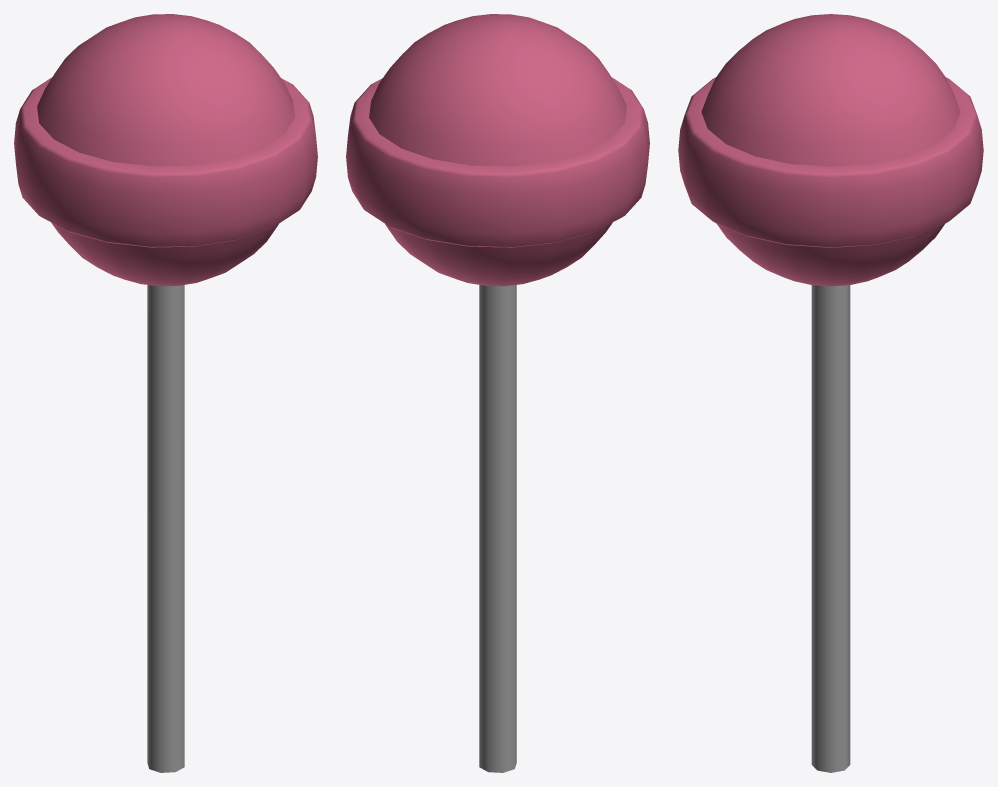
The model's file is lolipop.fbx.
3 renders of one model, left to right at view 1: azimuth 30°, elevation 25°; view 2: azimuth 150°, elevation 25°; view 3: azimuth 270°, elevation 25°, orthographic.
Parts seen in each view (by area): view 1: Lolipop; view 2: Lolipop; view 3: Lolipop.
Part boxes in pixels (bbox=[...]): Lolipop: bbox=[14, 14, 317, 772]; Lolipop: bbox=[346, 14, 649, 772]; Lolipop: bbox=[678, 14, 983, 772].
Size of the model in its own units: 224 by 598 by 224.
